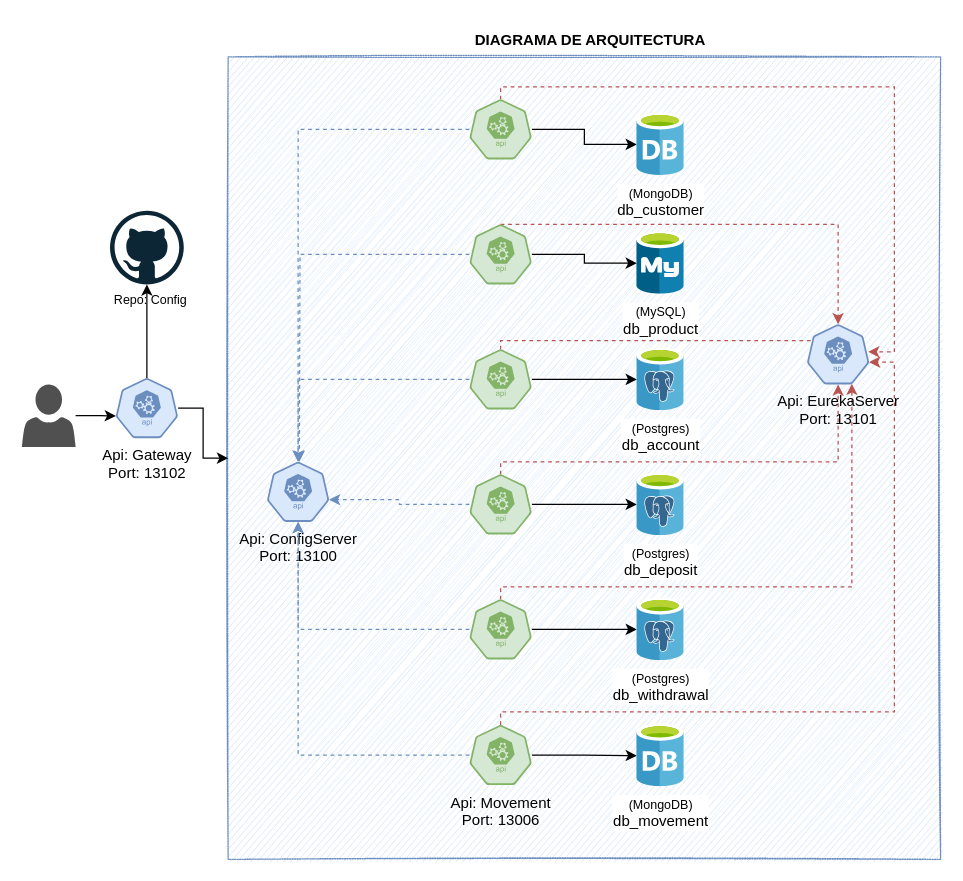
Some shapes in this 963 by 881 pixel diagram are drawn without their labels. Here are the shapes that lost their labels. From the top down, the box of each, then its label:
(468, 98, 532, 159): Api: Customer Port: 13001
(468, 223, 532, 284): Api: Product Port: 13002
(468, 348, 532, 409): Api: Account Port: 13003
(468, 473, 532, 534): Api: Deposit Port: 13004
(468, 598, 532, 659): Api: Withdrawal Port: 13005
